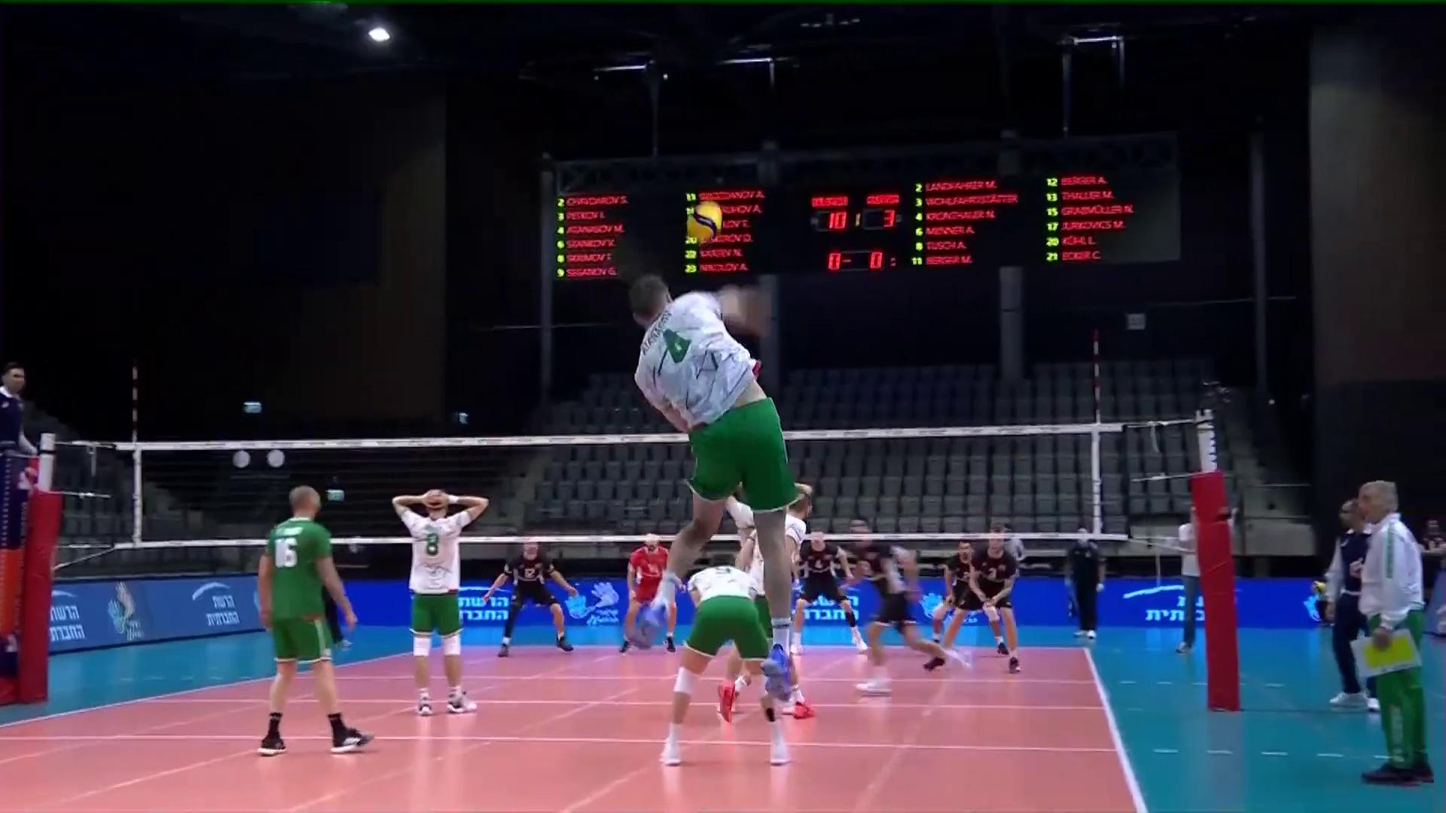ball: (684, 199, 724, 243)
